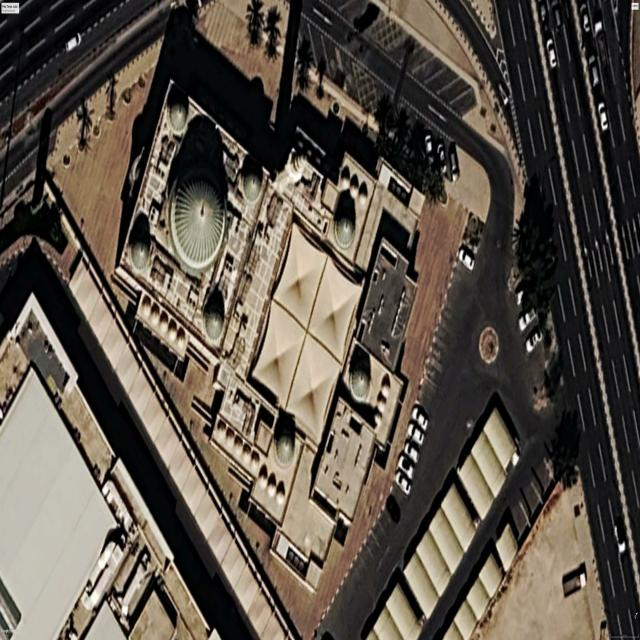mosque: (116, 81, 425, 591)
